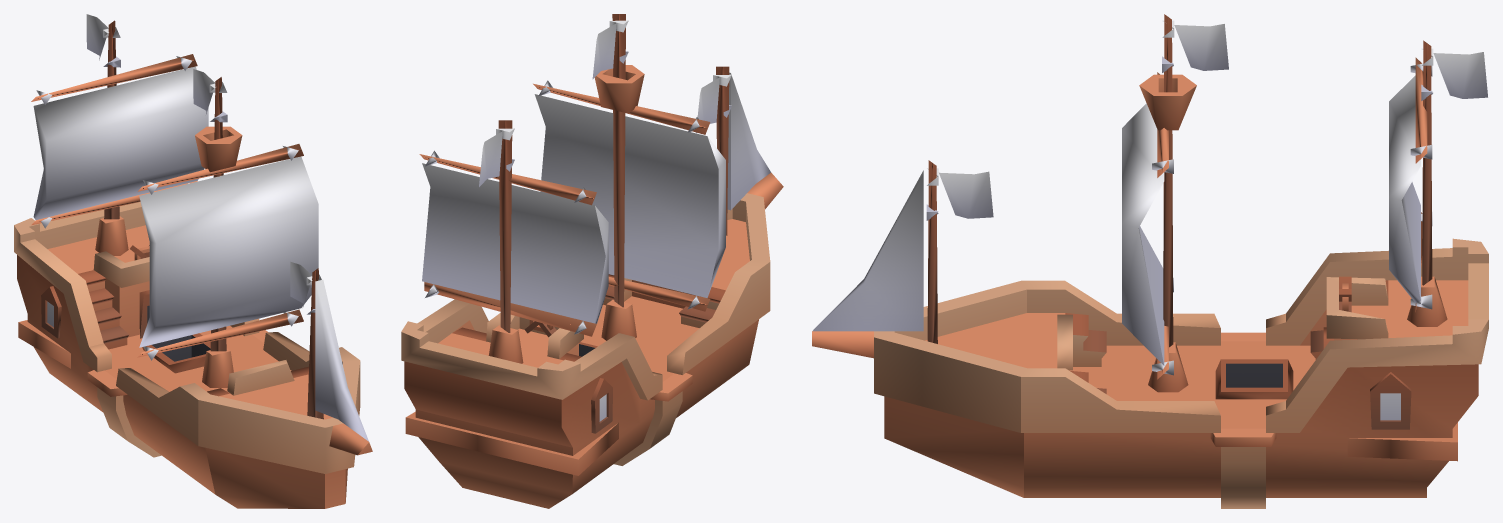
Rendered from cc0-ship-large-lod1.glb.
3 views of the same model, side by side, from view 1: azimuth 30°, elevation 25°; view 2: azimuth 150°, elevation 25°; view 3: azimuth 270°, elevation 25° (orthographic). The views are drawn at different scales.
Visible parts, largest first — view 1: part_0; view 2: part_0; view 3: part_0.
Boxes of the visible parts, x1=… form: part_0: x1=14, y1=14, x2=372, y2=508; part_0: x1=401, y1=14, x2=783, y2=508; part_0: x1=812, y1=14, x2=1488, y2=508.
Bounding box in the file's own units: 4.8 × 9.96 × 13.1.
1 material, 1 textured.
